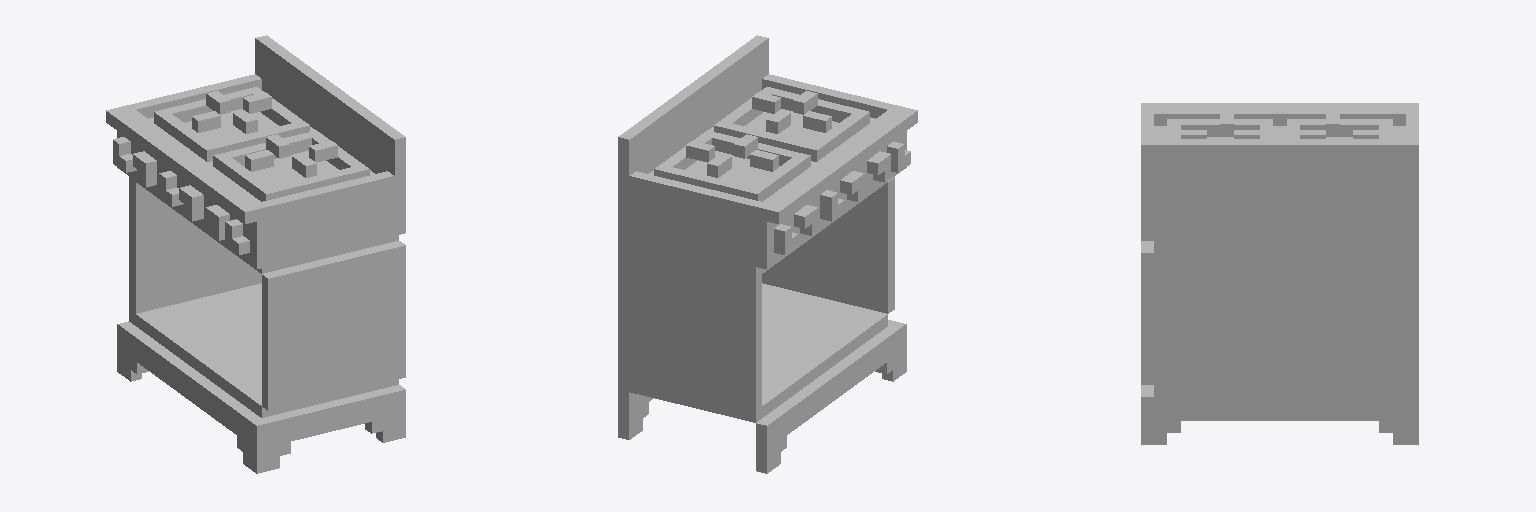
The model's file is Gas_stove.obj.
3 views of the same model, side by side, from view 1: azimuth 30°, elevation 25°; view 2: azimuth 150°, elevation 25°; view 3: azimuth 270°, elevation 25° (orthographic).
Visible parts, largest first — view 1: object 1; view 2: object 1; view 3: object 1.
Part boxes in pixels (bbox=[...]): object 1: bbox=[106, 35, 405, 473]; object 1: bbox=[618, 35, 917, 473]; object 1: bbox=[1141, 103, 1418, 444].
Bounding box in the file's own units: 1.4 × 2.5 × 2.1.